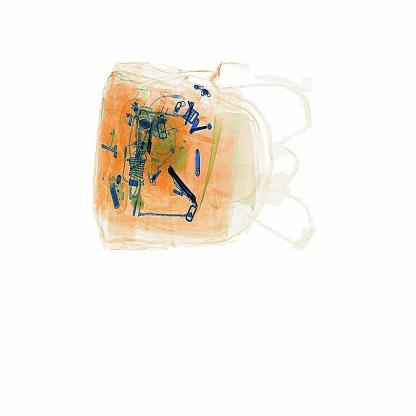knife: (161, 157, 203, 213)
